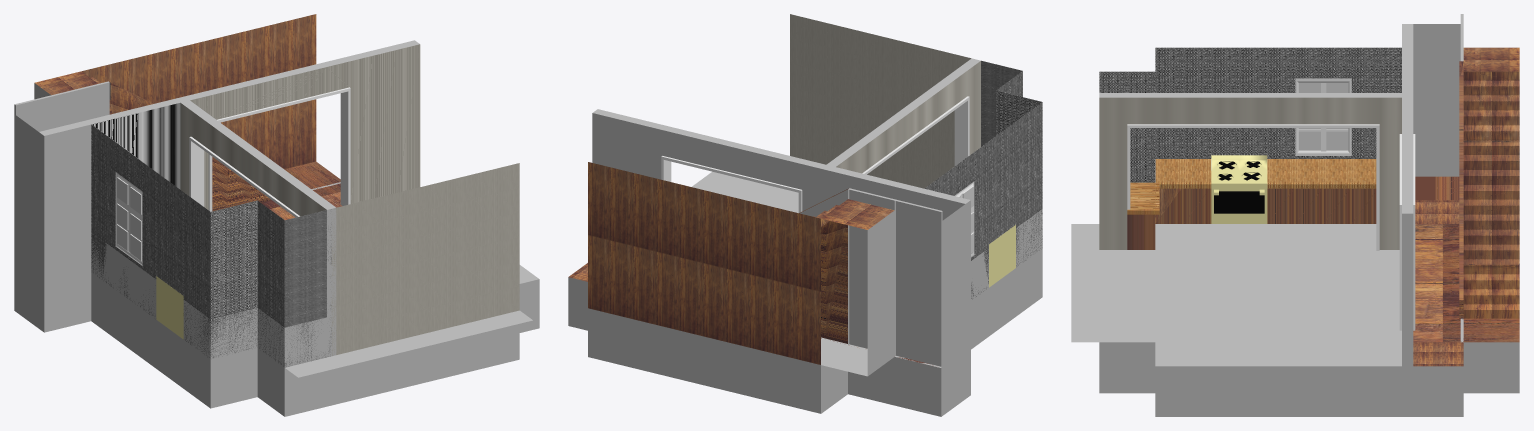
Rendered from kitchen.fbx.
3 views of the same model, side by side, from view 1: azimuth 30°, elevation 25°; view 2: azimuth 150°, elevation 25°; view 3: azimuth 270°, elevation 25° (orthographic). The views are drawn at different scales.
Parts seen in each view (by area): view 1: pPlane1, kitchen_oven:pCube1; view 2: pPlane1, kitchen_oven:pCube1; view 3: pPlane1, kitchen_oven:pCube1.
Boxes of the visible parts, bbox=[...] form: pPlane1: bbox=[14, 14, 539, 416]; kitchen_oven:pCube1: bbox=[156, 276, 183, 339]; pPlane1: bbox=[568, 14, 1042, 416]; kitchen_oven:pCube1: bbox=[989, 225, 1015, 287]; pPlane1: bbox=[1071, 14, 1519, 416]; kitchen_oven:pCube1: bbox=[1211, 155, 1267, 223].
Size of the model in its own units: 32 by 16.8 by 32.
